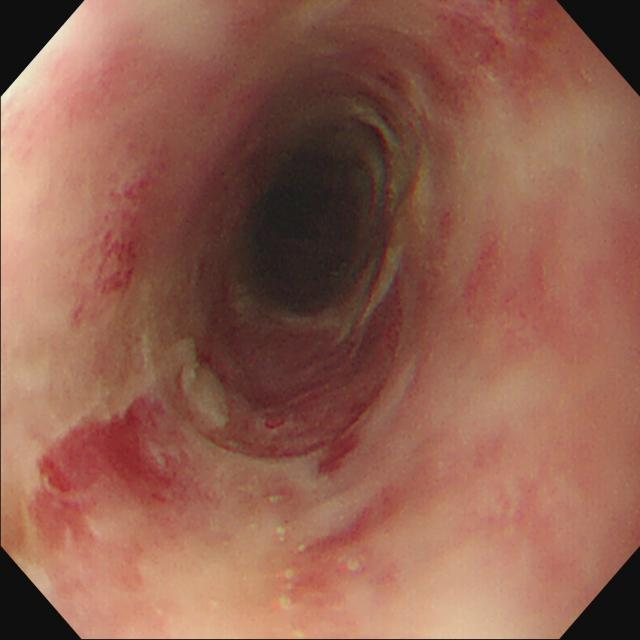A: (203, 320, 403, 463), (420, 2, 555, 105), (290, 487, 403, 607), (74, 174, 152, 326), (467, 236, 553, 347)
C: (29, 394, 196, 519), (313, 438, 368, 479)
E: (251, 158, 372, 315)
J: (179, 357, 234, 432)
